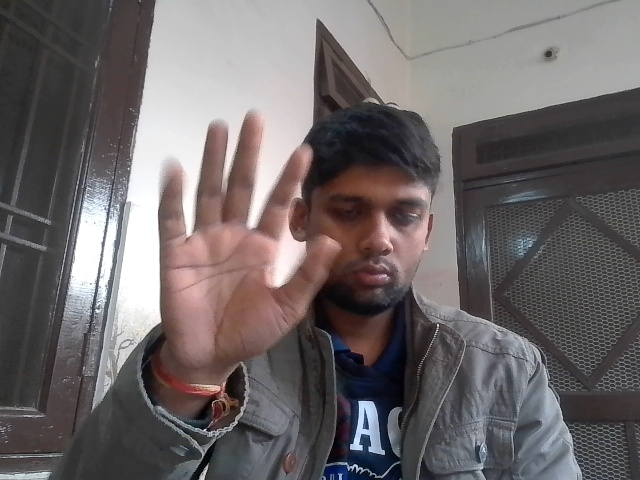Hello: (151, 104, 345, 375)
